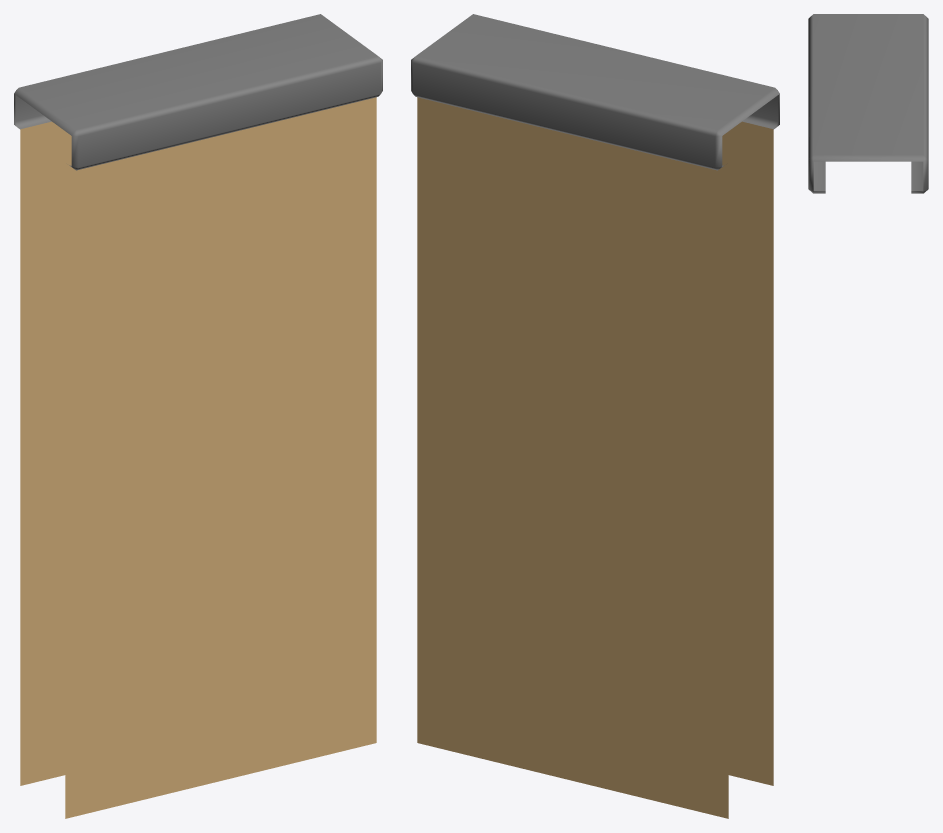
File: SM_WallB_4x8_LOD1.fbx
The picture shows the model from 3 angles, left to right: view 1: azimuth 30°, elevation 25°; view 2: azimuth 150°, elevation 25°; view 3: azimuth 270°, elevation 25°; orthographic projection. The views are drawn at different scales.
Visible parts, largest first — view 1: SM_WallB_4x8_LOD1; view 2: SM_WallB_4x8_LOD1; view 3: SM_WallB_4x8_LOD1.
Part boxes in pixels (x1,y1,x2,y2): SM_WallB_4x8_LOD1: [14, 14, 382, 818]; SM_WallB_4x8_LOD1: [411, 14, 779, 818]; SM_WallB_4x8_LOD1: [808, 14, 928, 193].
Size of the model in its own units: 4 by 8.5 by 1.4.
